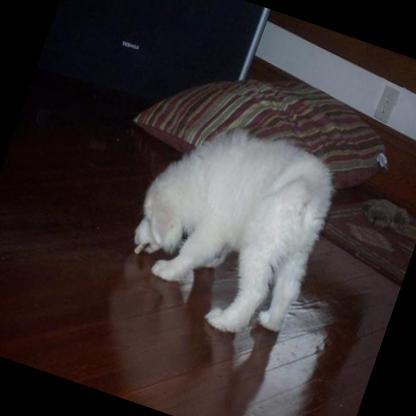Great_Pyrenees: (112, 100, 350, 353)
